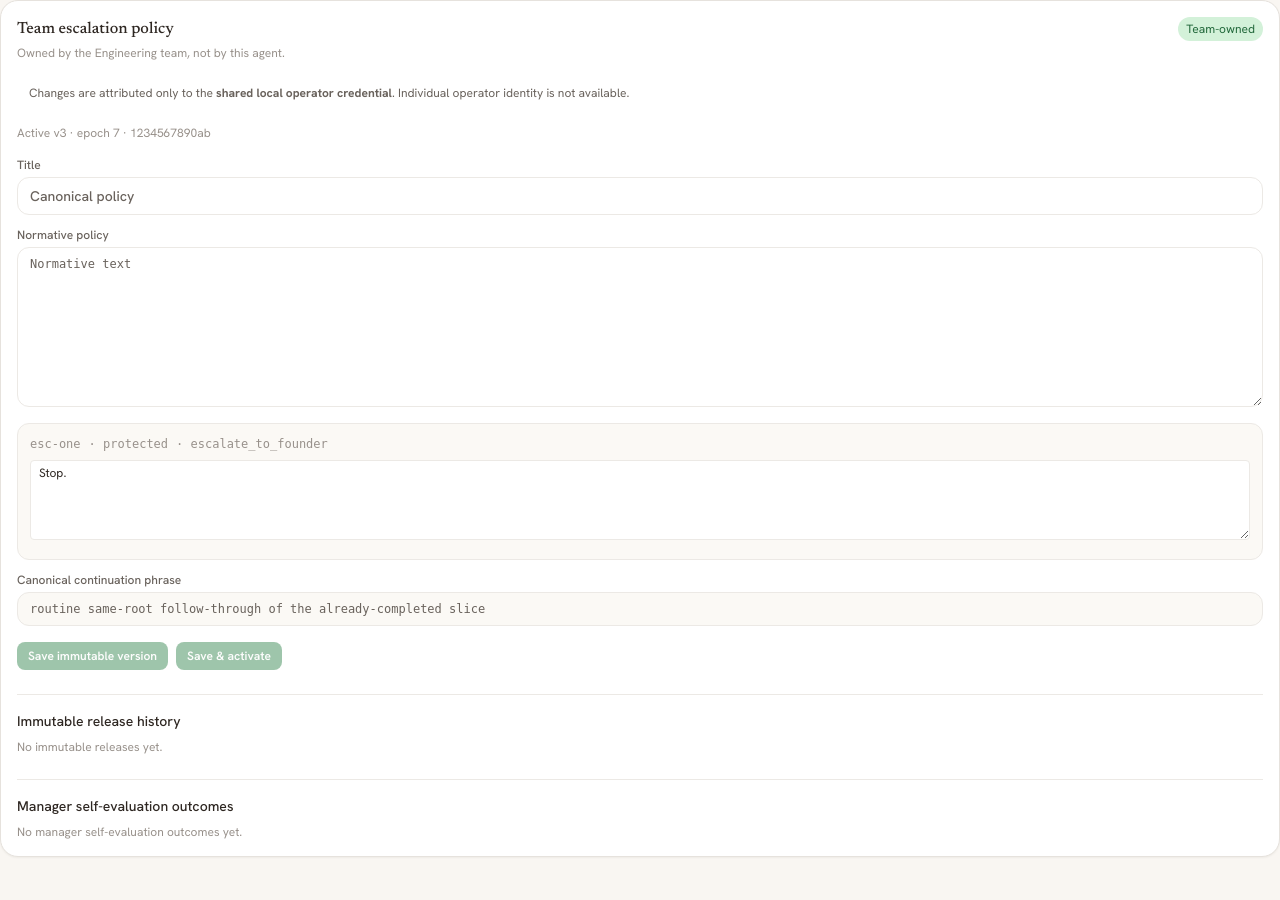
Scenario: TeamEscalationPolicyCard › renders an active release and enables actions only for a dirty valid draft
Expected: the text "Active v3 · epoch 7 · 1234567890ab" is shown, [17, 125, 211, 141]
Expected: the button "Save immutable version" is disabled, [17, 642, 168, 670]
Replace the text in the field labelled "Title" with "Edited policy" at [640, 196], box [17, 177, 1263, 215]
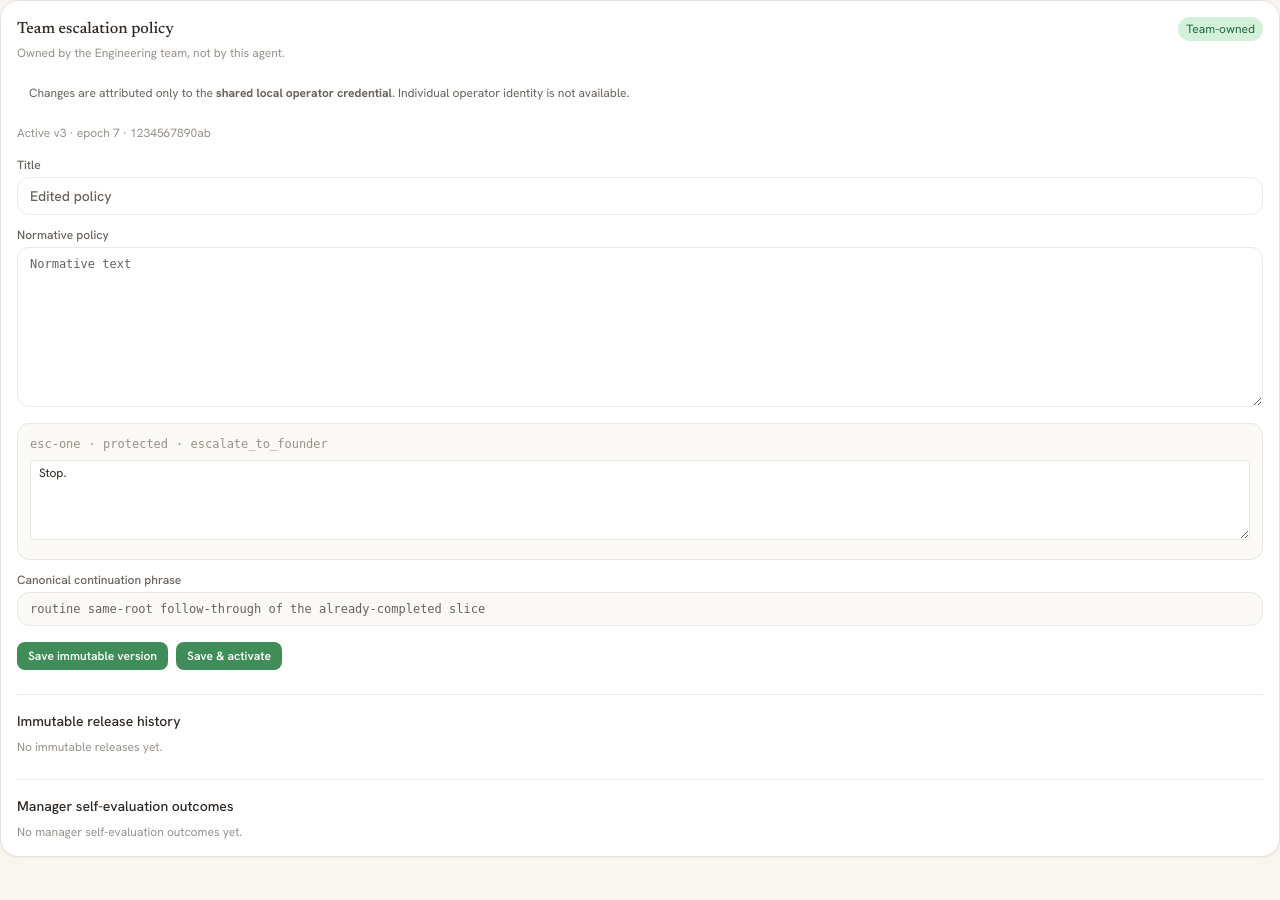
Expected: the text "No immutable releases yet." is shown, [17, 739, 162, 755]
Expected: the button "Save immutable version" is enabled, [17, 642, 168, 670]
Expected: the button "Save & activate" is enabled, [176, 642, 282, 670]
